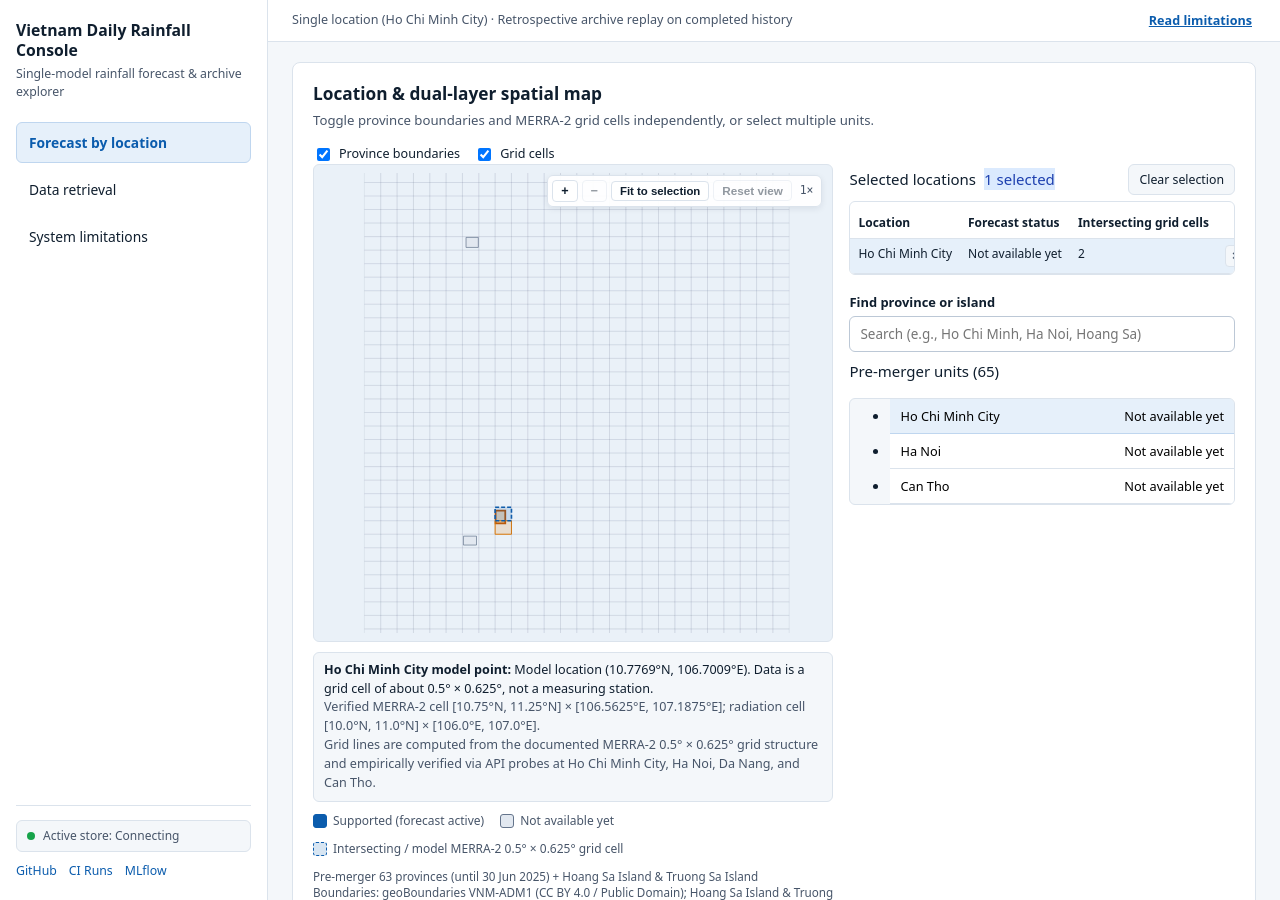
Scenario: Round 10 English SPA, Single-Model Main, 2-Layer Map & Data Retrieval › renders Tab 2 Part F probe-aware cutoff, scan date empty slots, weekly partial badge & overlay note, and hides ingest card when empty
Click the button "Data retrieval" at (134, 189), box [16,169,251,210]
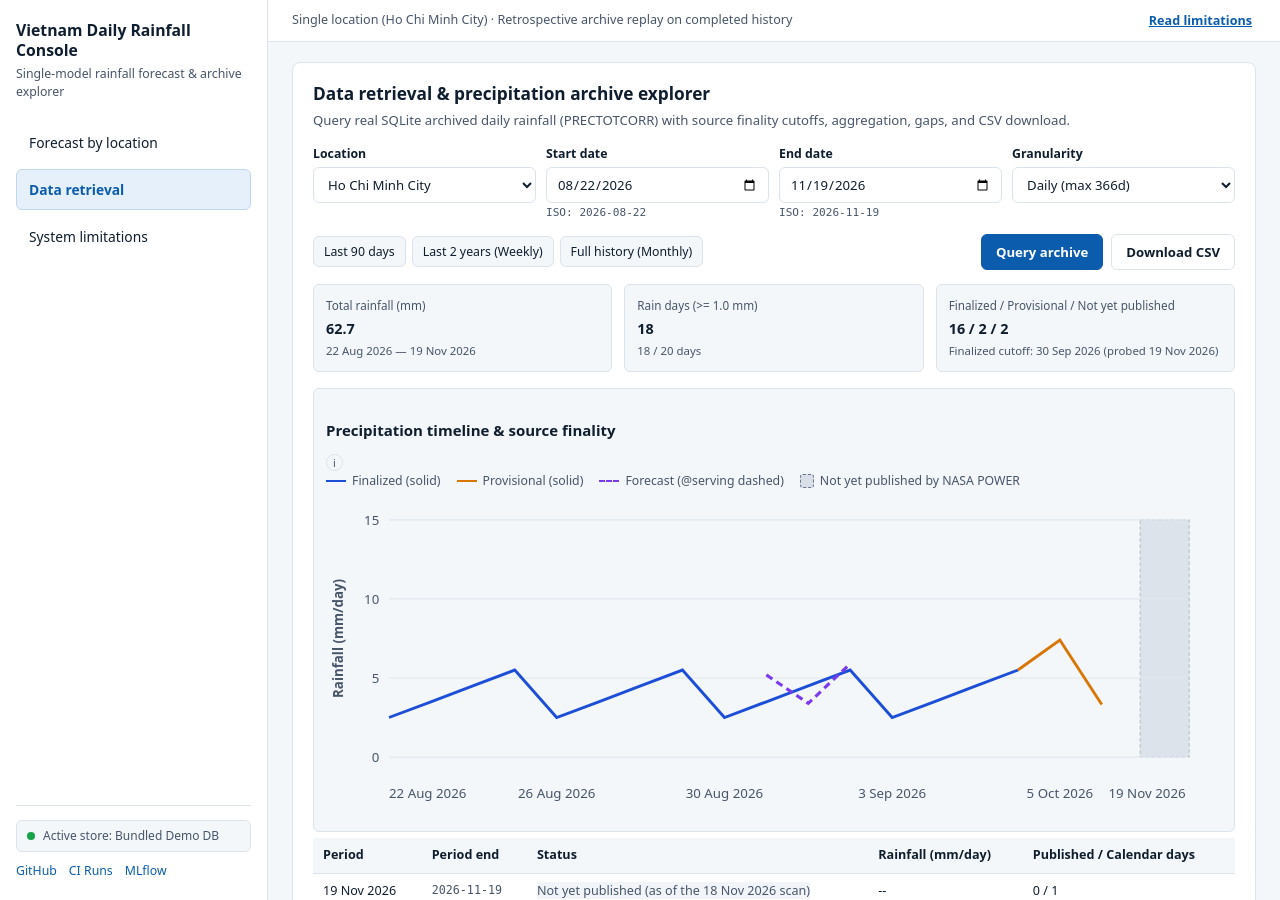
Expected: the picture with test id "observations-chart" is shown, [326,498,1222,813]
Expected: the text "Finalized cutoff: 30 Sep 2026 (probed 19 Nov 2026)" is shown, [949,342,1222,359]
Click the button "Last 2 years (Weekly)" at (483, 252), box [412,236,554,267]
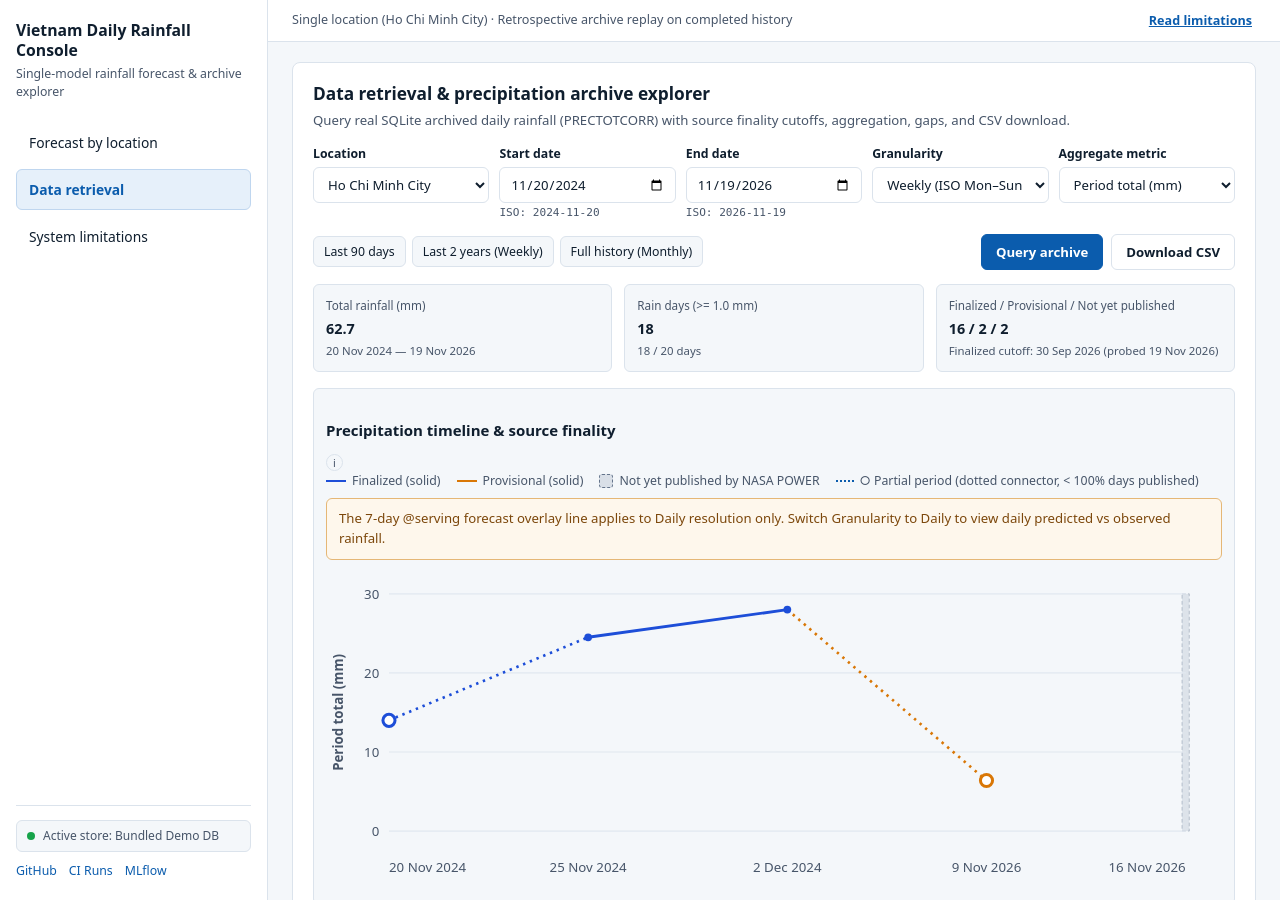
Expected: the text with test id "obs-start-iso" shows "ISO:", [499,206,600,219]
Expected: the text with test id "obs-end-iso" shows "ISO:", [686,206,786,219]
Expected: the element with test id "legend-partial-period" shows "Partial period (dotted connector", [860,472,1199,489]
Select "Ha Noi" in the dropdown labelled "Location" at (401, 185), box [313,167,489,203]
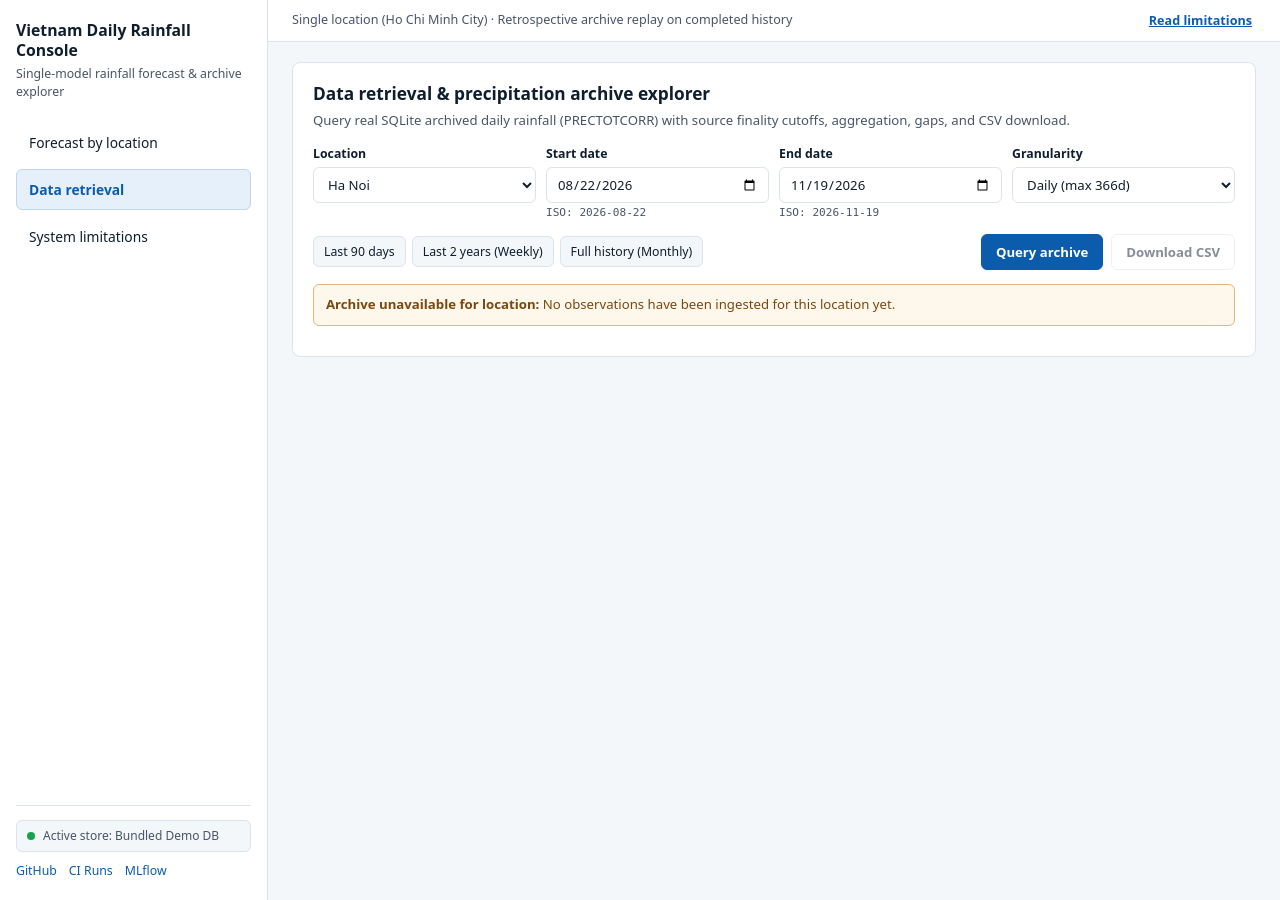
Expected: the text "No observations have been ingested for this location yet." is shown, [543,295,895,313]
